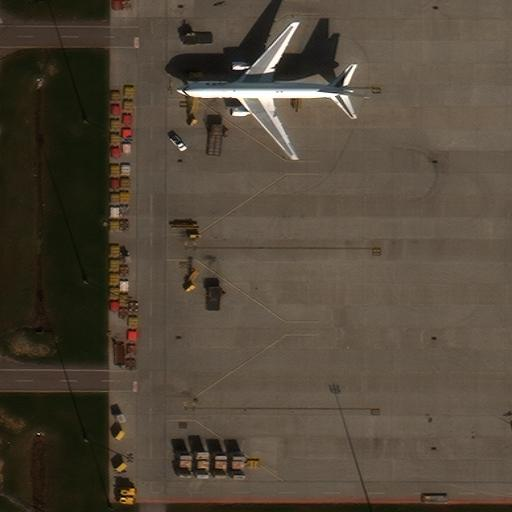Large Civil Transport: (177, 23, 354, 159)
